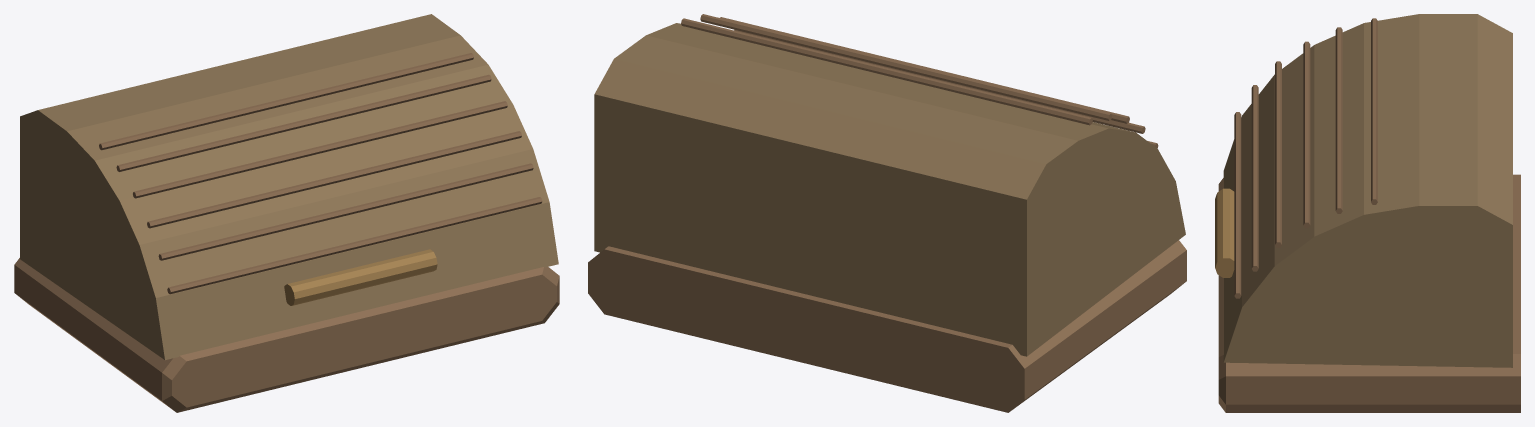
Rendered from G-01_breadbin.glb.
The picture shows the model from 3 angles, left to right: view 1: azimuth 30°, elevation 25°; view 2: azimuth 150°, elevation 25°; view 3: azimuth 270°, elevation 25°; orthographic projection. The views are drawn at different scales.
Visible parts, largest first — view 1: G-01_breadbin; view 2: G-01_breadbin; view 3: G-01_breadbin.
Part boxes in pixels (left/top/right/bottom): G-01_breadbin: left=14, top=14, right=559, bottom=412; G-01_breadbin: left=588, top=14, right=1186, bottom=412; G-01_breadbin: left=1215, top=14, right=1520, bottom=412.
Size of the model in its own units: 0.323 by 0.1668 by 0.2155.
